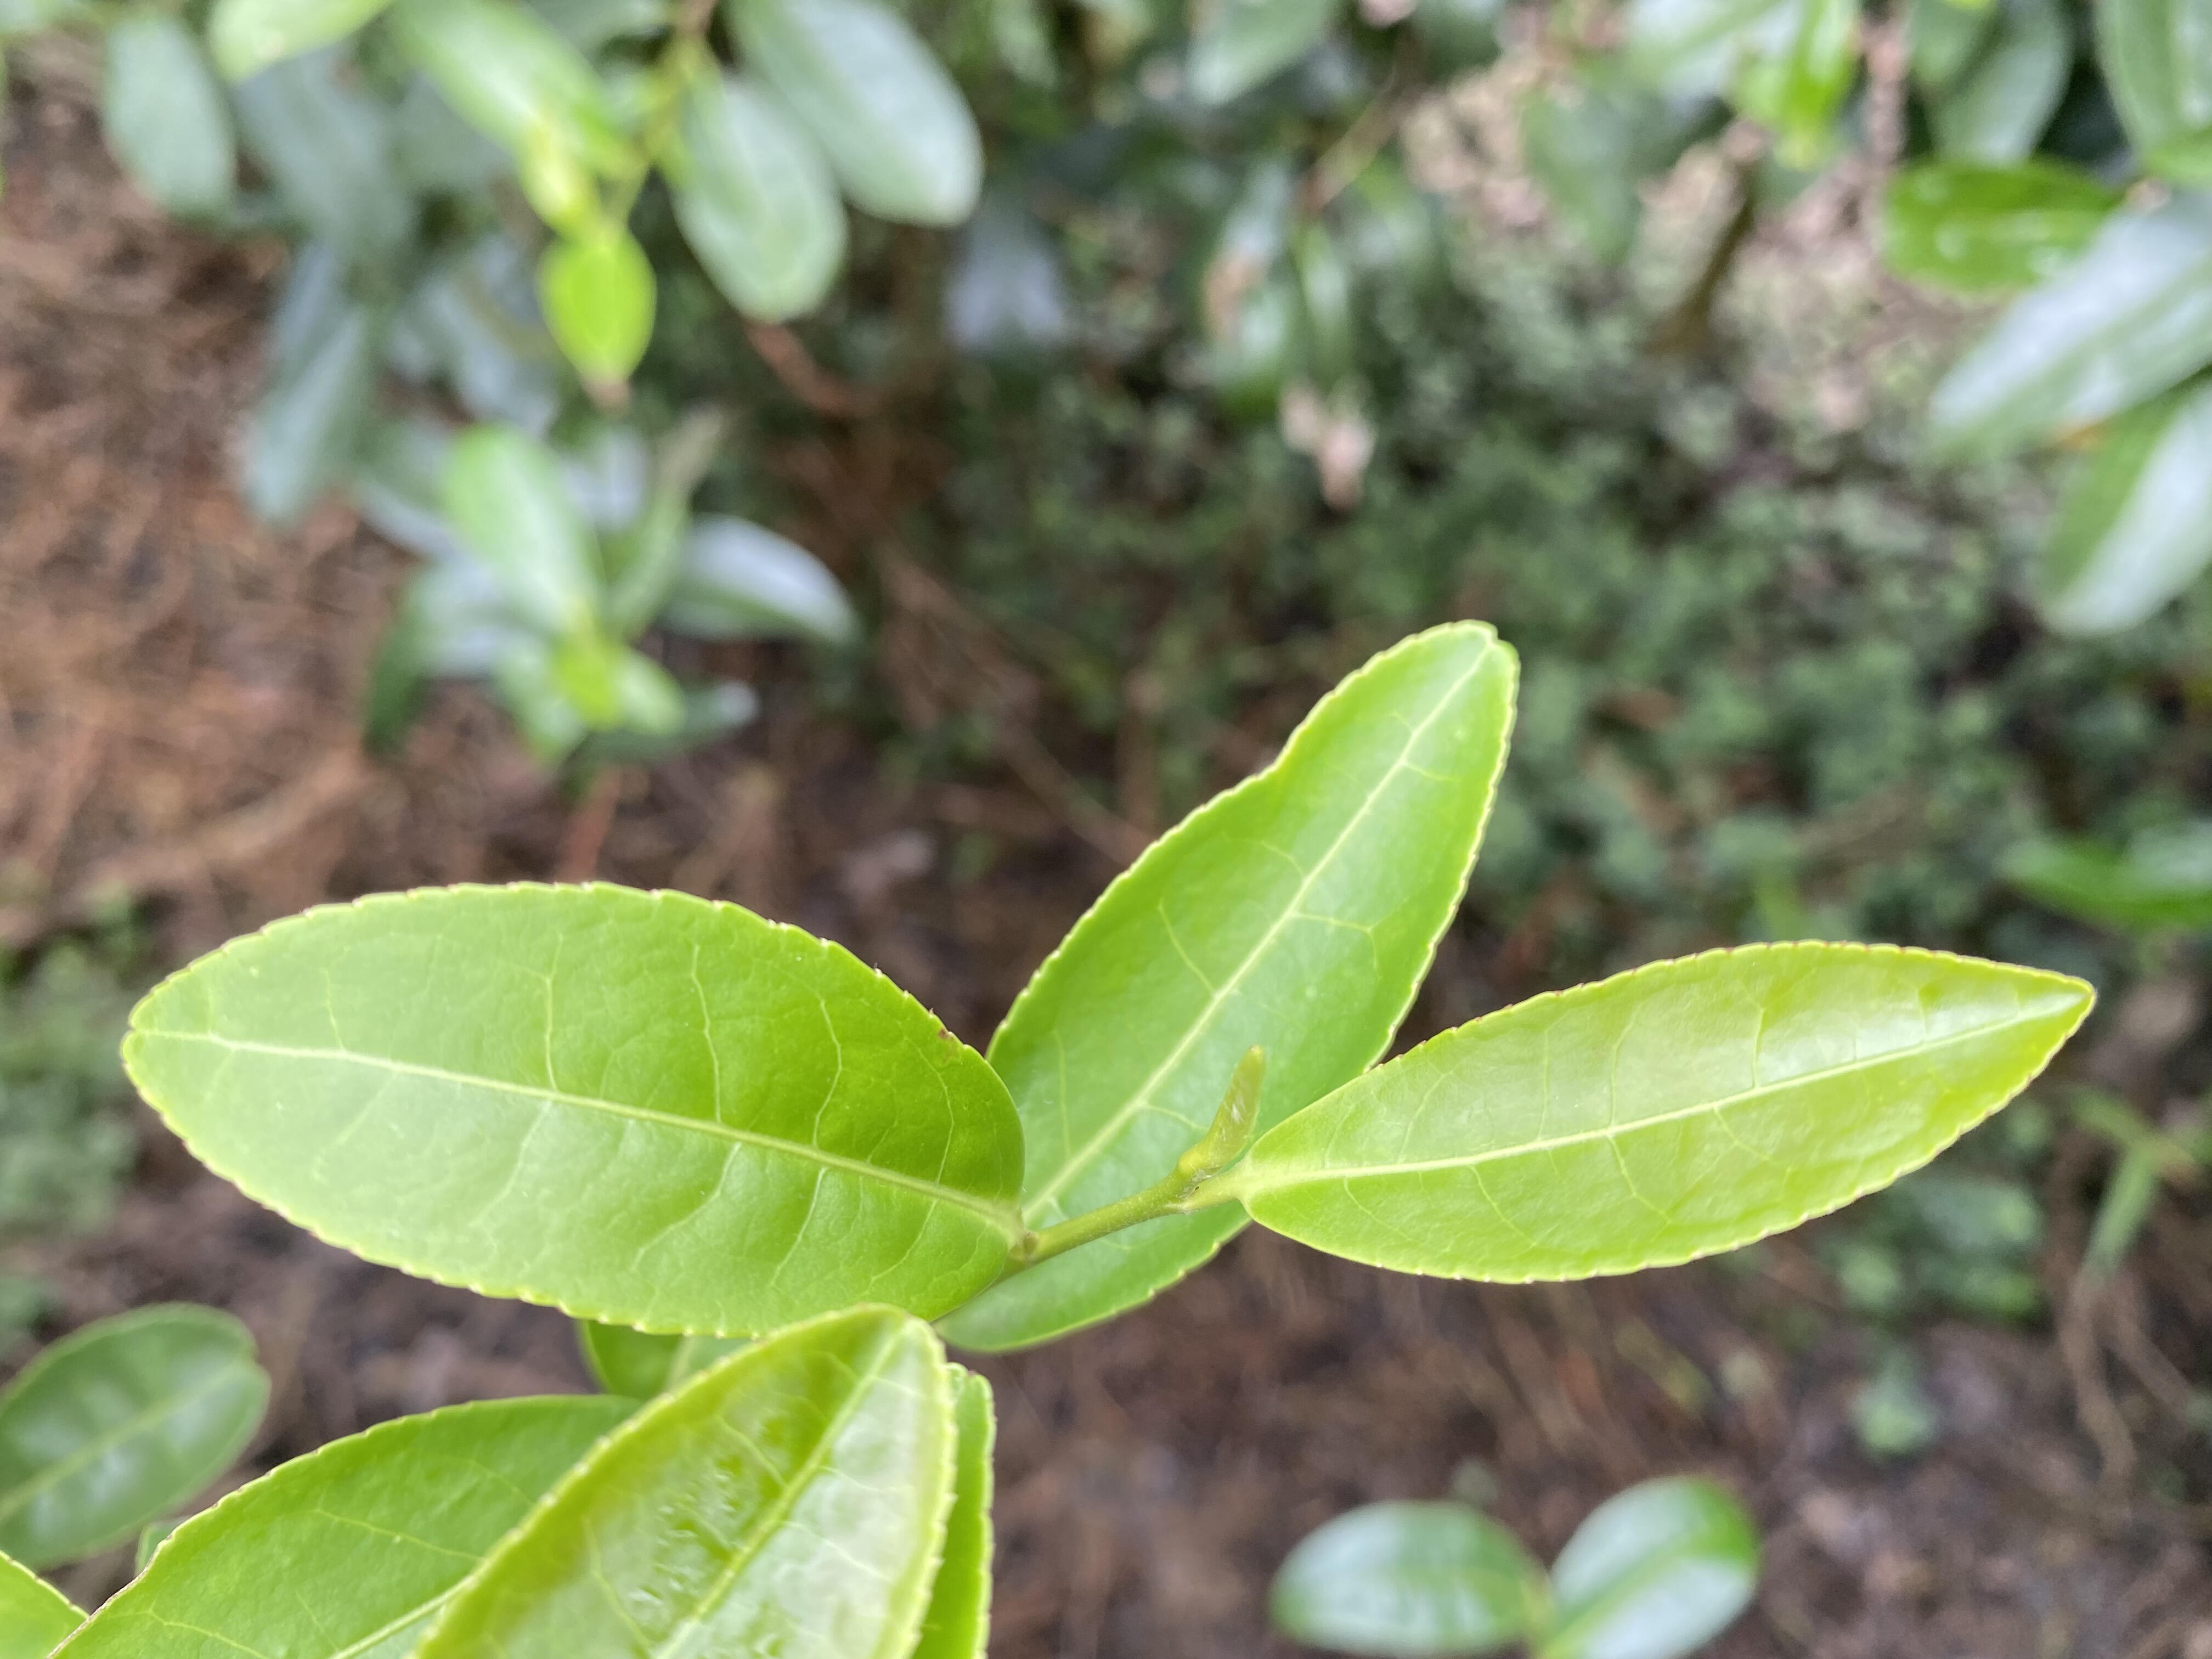healthy: (932, 617, 1521, 1349), (117, 884, 1028, 1342), (1249, 938, 2099, 1288), (411, 1302, 958, 1659)
